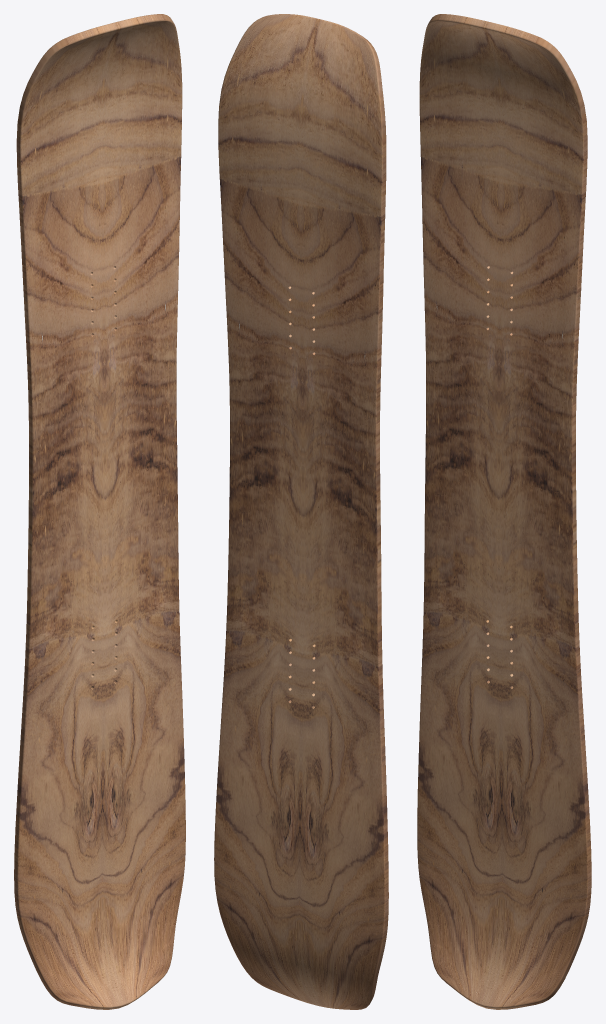
File: snowboardImage.glb
3 views of the same model, side by side, from view 1: azimuth 30°, elevation 25°; view 2: azimuth 150°, elevation 25°; view 3: azimuth 330°, elevation 25° (orthographic).
Parts seen in each view (by area): view 1: Snoeboard4; view 2: Snoeboard4; view 3: Snoeboard4.
Boxes of the visible parts, box(x1,y1,x2,y2) form: Snoeboard4: box(14, 14, 185, 1009); Snoeboard4: box(214, 14, 388, 1009); Snoeboard4: box(417, 14, 591, 1009).
Size of the model in its own units: 0.2926 by 1.62 by 0.0693.
1 material, 1 textured.
